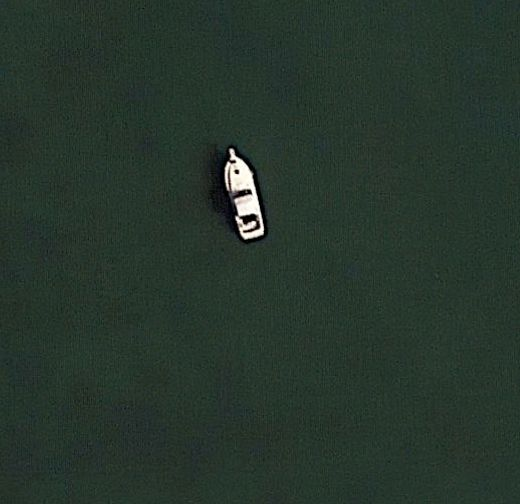boat: (214, 142, 268, 244)
